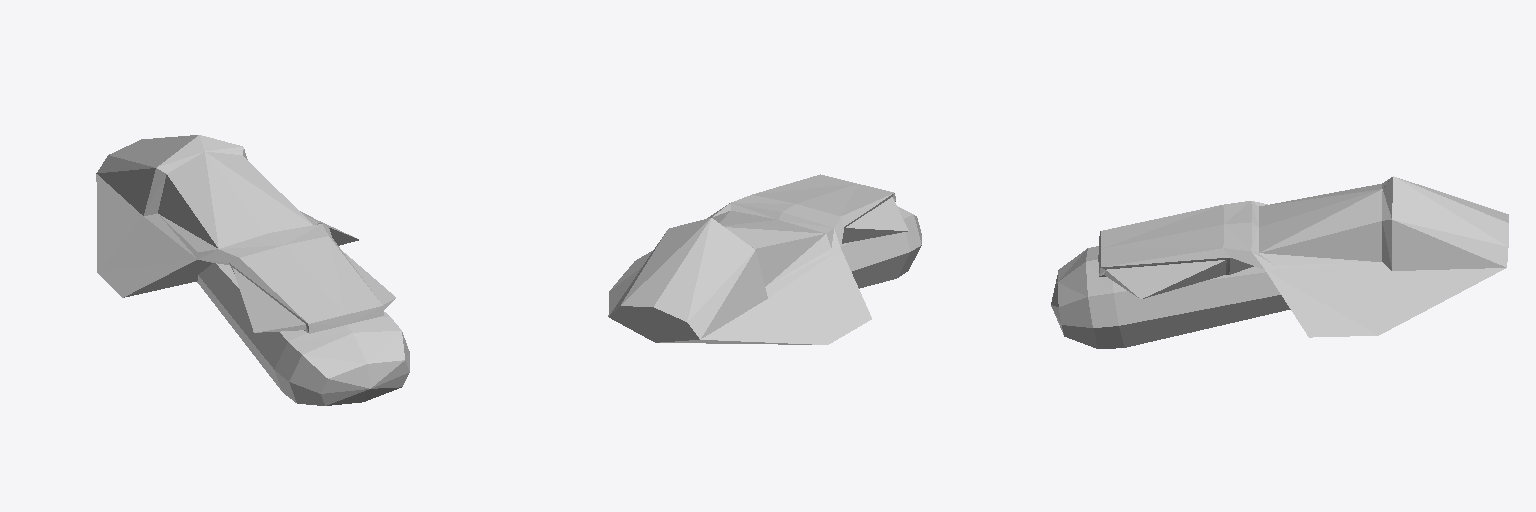
File: redCar.obj
3 views of the same model, side by side, from view 1: azimuth 30°, elevation 25°; view 2: azimuth 150°, elevation 25°; view 3: azimuth 270°, elevation 25° (orthographic).
Bounding box in the file's own units: 3.26 × 2.09 × 5.44.